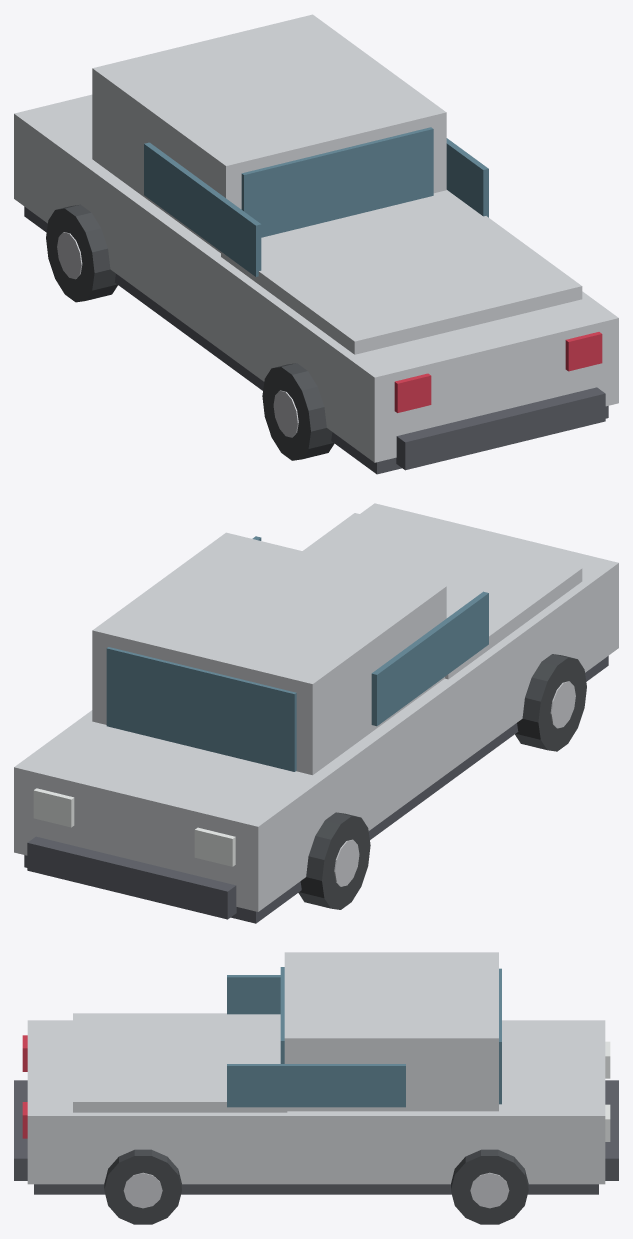
The model's file is strada.glb.
3 views of the same model, one above another, from view 1: azimuth 30°, elevation 25°; view 2: azimuth 150°, elevation 25°; view 3: azimuth 270°, elevation 25° (orthographic). The views are drawn at different scales.
Visible parts, largest first — view 1: BODY_main, BODY_cab, BODY_bed, WINDOW_rear, BODY_bumper_rear, WINDOW_side_-1, WHEEL_-1_1.335, WHEEL_-1_-1.335, BODY_lower, WINDOW_side_1, LIGHT_rear_1, LIGHT_rear_-1 (+2 smaller); view 2: BODY_main, BODY_cab, WINDOW_front, BODY_bed, BODY_bumper_front, WINDOW_side_-1, WHEEL_-1_-1.335, WHEEL_-1_1.335, BODY_lower, LIGHT_front_-1, LIGHT_front_1, WHEEL_-1_-1.335_hub (+1 smaller); view 3: BODY_main, BODY_cab, BODY_bed, WINDOW_side_1, BODY_lower, WHEEL_1_-1.335, WHEEL_1_1.335, WINDOW_side_-1, BODY_bumper_rear, BODY_bumper_front, WHEEL_1_-1.335_hub, WHEEL_1_1.335_hub (+2 smaller).
Part boxes in pixels (x1,y1,x2,y2): BODY_main: (14, 94, 618, 462); BODY_cab: (92, 14, 446, 252); BODY_bed: (221, 190, 582, 354); WINDOW_rear: (241, 127, 433, 237); BODY_bumper_rear: (396, 387, 605, 470); WINDOW_side_-1: (144, 142, 261, 276); WHEEL_-1_1.335: (262, 363, 334, 460); WHEEL_-1_-1.335: (46, 204, 117, 302); BODY_lower: (24, 206, 608, 474); WINDOW_side_1: (446, 138, 488, 217); LIGHT_rear_1: (565, 332, 602, 371); LIGHT_rear_-1: (394, 373, 431, 412); BODY_main: (14, 503, 618, 911); BODY_cab: (92, 532, 446, 775); WINDOW_front: (106, 647, 296, 771); BODY_bed: (302, 513, 582, 679); BODY_bumper_front: (27, 836, 236, 919); WINDOW_side_-1: (371, 591, 488, 726); WHEEL_-1_-1.335: (298, 812, 370, 909); WHEEL_-1_1.335: (515, 654, 586, 751); BODY_lower: (24, 656, 608, 923); LIGHT_front_-1: (194, 827, 235, 866); LIGHT_front_1: (33, 788, 74, 827); WHEEL_-1_-1.335_hub: (334, 839, 359, 886); BODY_main: (27, 1020, 605, 1184); BODY_cab: (284, 952, 498, 1111); BODY_bed: (73, 1013, 287, 1112); WINDOW_side_1: (227, 1064, 405, 1107); BODY_lower: (34, 1184, 598, 1194); WHEEL_1_-1.335: (451, 1149, 528, 1224); WHEEL_1_1.335: (104, 1149, 181, 1224); WINDOW_side_-1: (227, 975, 280, 1014); BODY_bumper_rear: (14, 1080, 27, 1180); BODY_bumper_front: (605, 1080, 618, 1180); WHEEL_1_-1.335_hub: (470, 1172, 509, 1208); WHEEL_1_1.335_hub: (123, 1172, 162, 1208).
Size of the model in its own units: 1.98 by 1.49 by 4.66.
